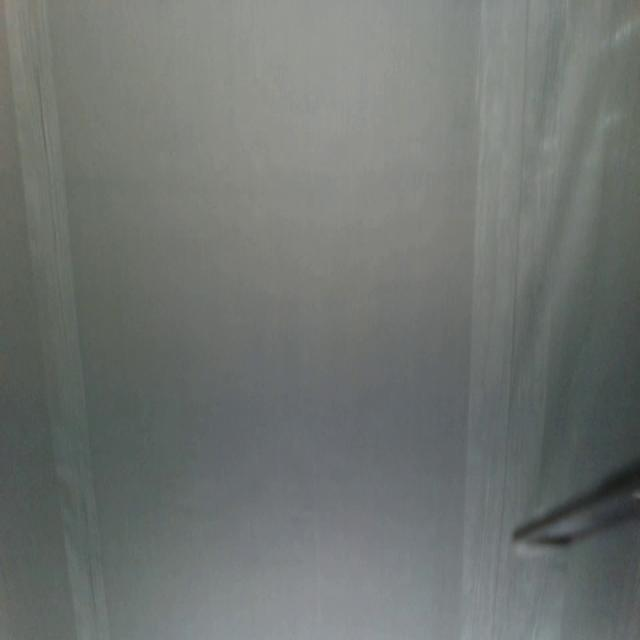crease: (4, 0, 112, 640), (466, 4, 564, 510)
